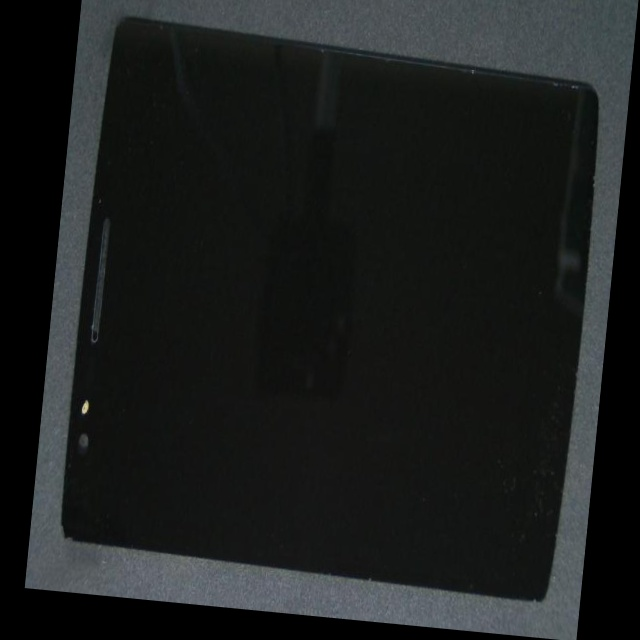stain: (53, 149, 126, 594)
